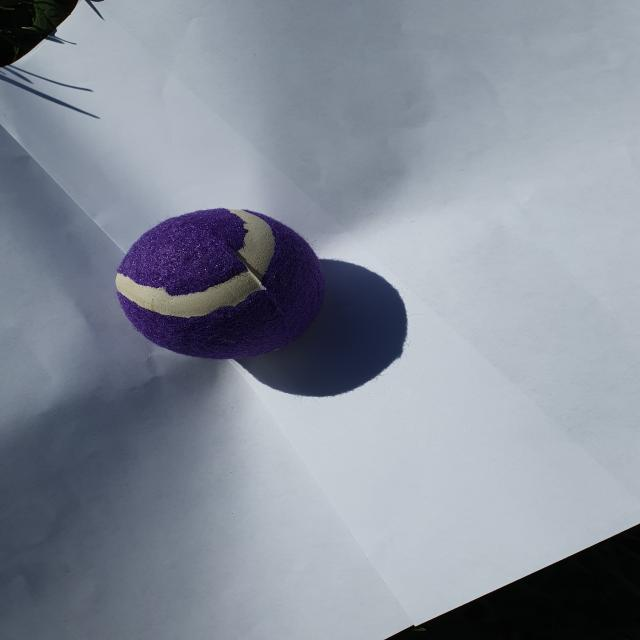purple: (116, 208, 323, 359)
